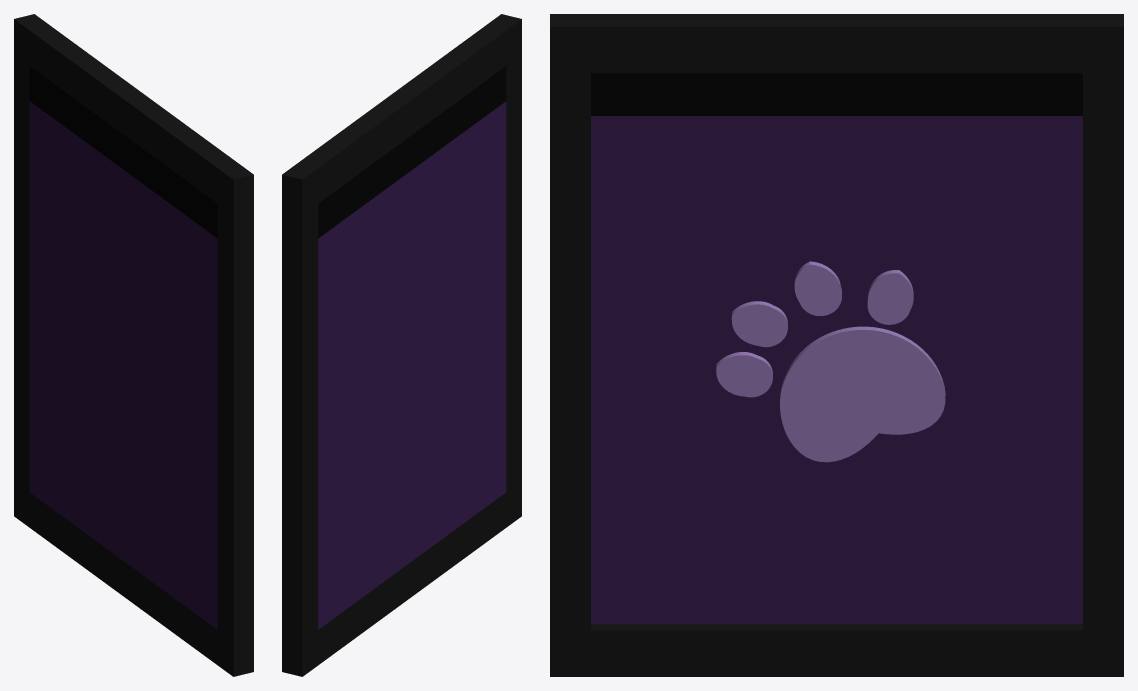
Rendered from dog_door.fbx.
The picture shows the model from 3 angles, left to right: view 1: azimuth 30°, elevation 25°; view 2: azimuth 150°, elevation 25°; view 3: azimuth 270°, elevation 25°; orthographic projection. The views are drawn at different scales.
Parts seen in each view (by area): view 1: dog_door_flap, dog_door_metal_1, dog_door_metal_2; view 2: dog_door_flap, dog_door_metal_1, dog_door_metal_2; view 3: dog_door_flap, dog_door_metal_1, dog_door_decor, dog_door_metal_2.
Part boxes in pixels (x1,y1,x2,y2): dog_door_flap: (29,101,217,629); dog_door_metal_1: (14,14,253,676); dog_door_metal_2: (29,66,217,238); dog_door_flap: (318,101,506,629); dog_door_metal_1: (282,14,521,676); dog_door_metal_2: (318,66,506,238); dog_door_flap: (591,116,1082,623); dog_door_metal_1: (550,14,1123,676); dog_door_decor: (716,261,945,462); dog_door_metal_2: (591,73,1082,115).
Size of the model in its own units: 2 by 37.1 by 46.37.
